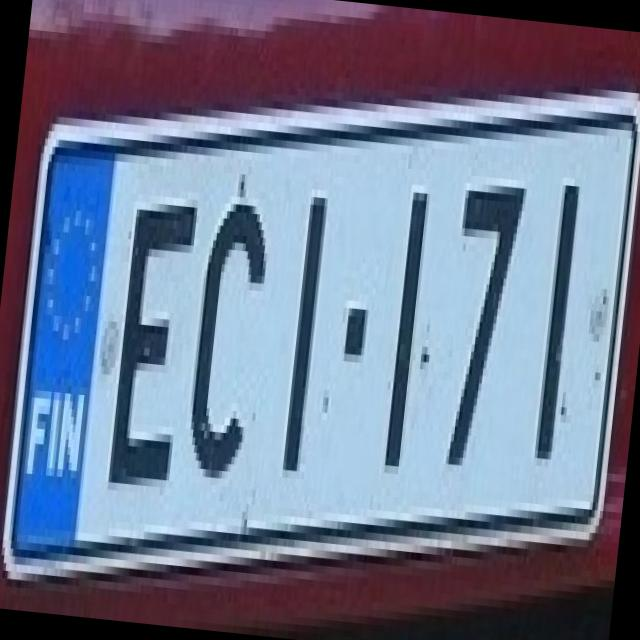1: (252, 156, 342, 480), (506, 144, 596, 460), (364, 152, 450, 476)
7: (424, 158, 532, 469)
C: (172, 162, 281, 481)
E: (91, 176, 202, 488)
